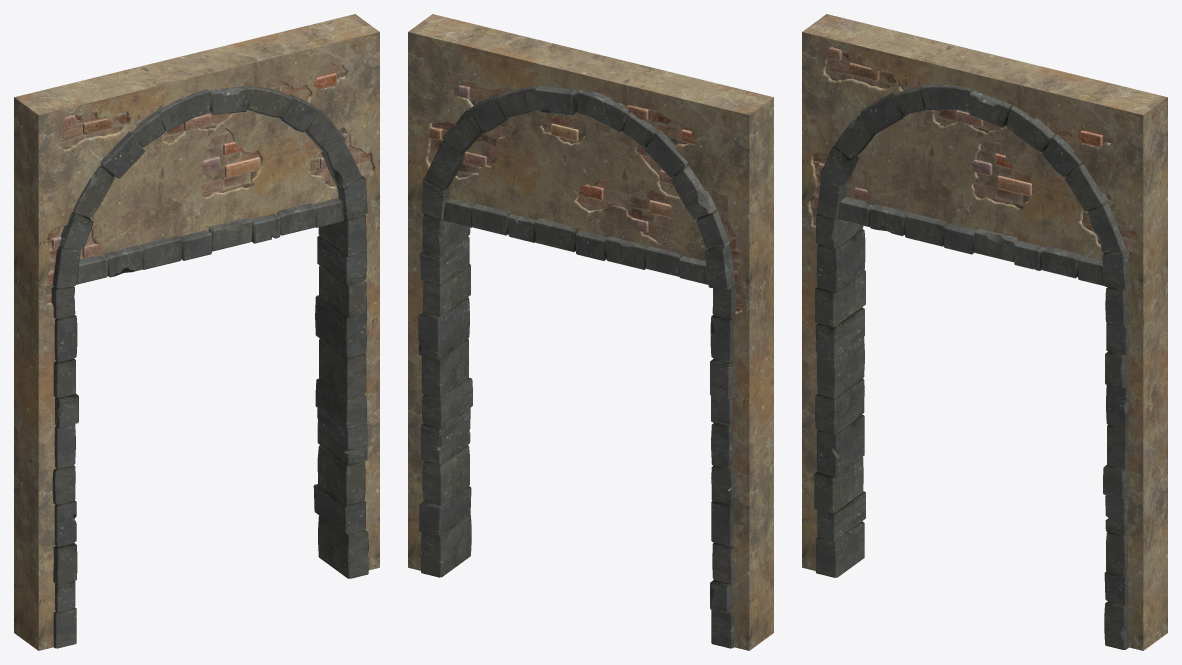
3 renders of one model, left to right at view 1: azimuth 30°, elevation 25°; view 2: azimuth 150°, elevation 25°; view 3: azimuth 330°, elevation 25°, orthographic.
Visible parts, largest first — view 1: SM_Human_Ruins_Arch_03_v2_LOD0; view 2: SM_Human_Ruins_Arch_03_v2_LOD0; view 3: SM_Human_Ruins_Arch_03_v2_LOD0.
Boxes of the visible parts, bbox=[...] form: SM_Human_Ruins_Arch_03_v2_LOD0: bbox=[14, 14, 379, 650]; SM_Human_Ruins_Arch_03_v2_LOD0: bbox=[408, 14, 773, 650]; SM_Human_Ruins_Arch_03_v2_LOD0: bbox=[802, 14, 1167, 650].
Bounding box in the file's own units: 4 × 6 × 0.6827.
4 materials, 4 textured.
